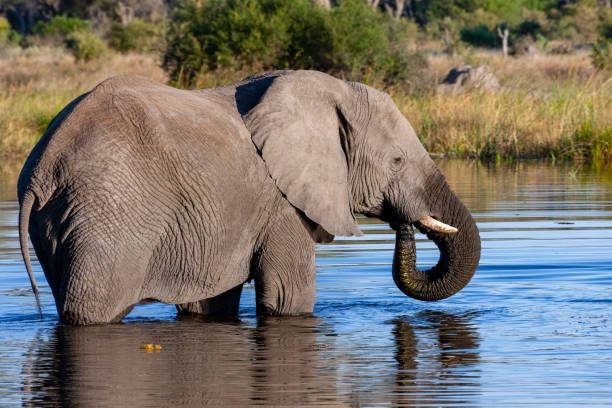africanelephant: (259, 58, 471, 284)
